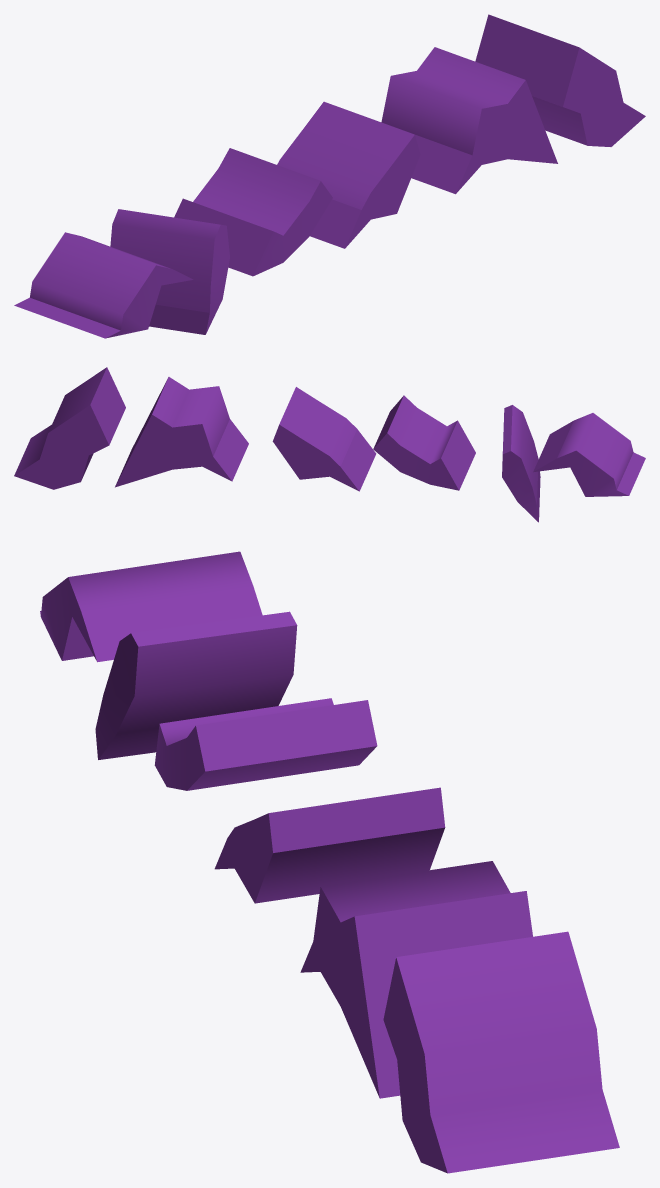
File: lighting.fbx
3 renders of one model, top to bottom at view 1: azimuth 30°, elevation 25°; view 2: azimuth 150°, elevation 25°; view 3: azimuth 270°, elevation 25°, orthographic. The views are drawn at different scales.
Visible parts, largest first — view 1: polySurface5092; view 2: polySurface5092; view 3: polySurface5092.
Part boxes in pixels (<box>): polySurface5092: <box>14,14,645,338</box>; polySurface5092: <box>14,367,645,522</box>; polySurface5092: <box>40,551,619,1173</box>.
Size of the model in its own units: 29.12 by 4.53 by 13.55.
